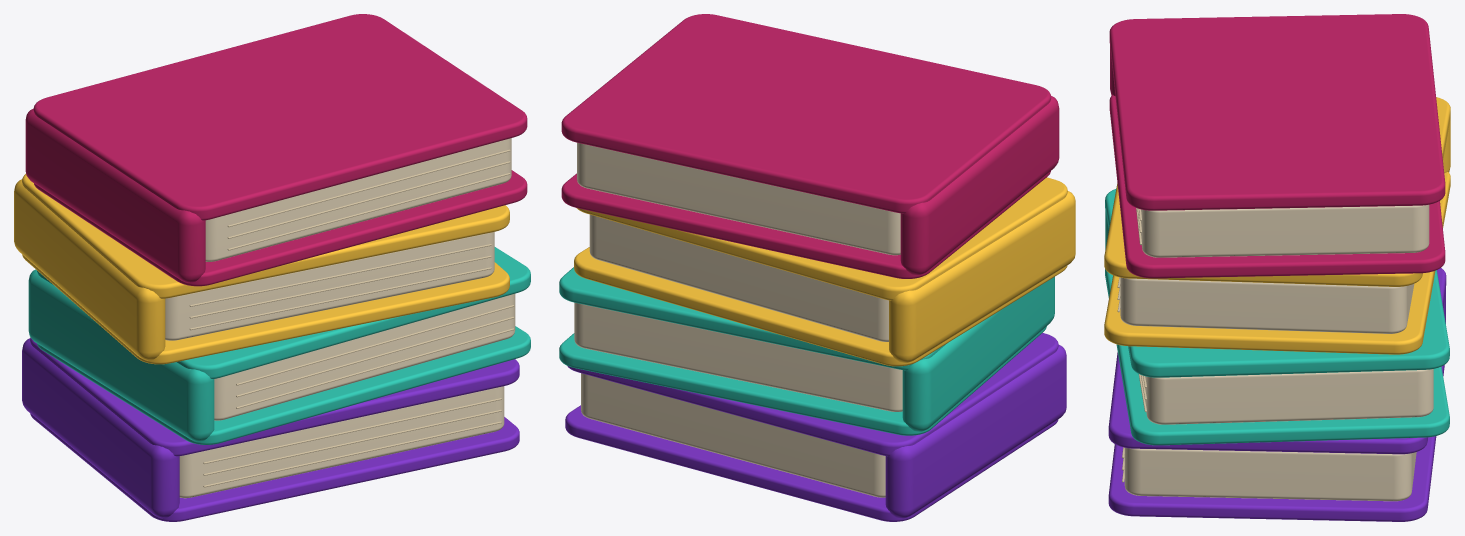
The model's file is book-stack.glb.
3 renders of one model, left to right at view 1: azimuth 30°, elevation 25°; view 2: azimuth 150°, elevation 25°; view 3: azimuth 270°, elevation 25°, orthographic. The views are drawn at different scales.
Visible parts, largest first — view 1: Stack 4 upper cover, Stack 3 page block, Stack 1 page block, Stack 4 rounded spine, Stack 4 page block, Stack 2 page block, Stack 2 rounded spine, Stack 1 rounded spine, Stack 3 rounded spine, Stack 3 lower cover, Stack 1 lower cover, Stack 3 upper cover (+16 smaller); view 2: Stack 4 upper cover, Stack 2 page block, Stack 4 page block, Stack 1 page block, Stack 3 page block, Stack 3 rounded spine, Stack 1 rounded spine, Stack 4 rounded spine, Stack 2 rounded spine, Stack 2 lower cover, Stack 4 lower cover, Stack 1 lower cover (+4 smaller); view 3: Stack 4 upper cover, Stack 3 page block, Stack 1 page block, Stack 4 page block, Stack 2 page block, Stack 4 lower cover, Stack 2 upper cover, Stack 2 lower cover, Stack 3 lower cover, Stack 1 lower cover, Stack 1 upper cover, Stack 3 upper cover.
Boxes of the visible parts, x1=… form: Stack 4 upper cover: x1=33, y1=14, x2=527, y2=220; Stack 3 page block: x1=165, y1=232, x2=494, y2=340; Stack 1 page block: x1=179, y1=386, x2=504, y2=498; Stack 4 rounded spine: x1=25, y1=108, x2=205, y2=282; Stack 4 page block: x1=205, y1=138, x2=511, y2=261; Stack 2 page block: x1=214, y1=293, x2=515, y2=420; Stack 2 rounded spine: x1=28, y1=269, x2=214, y2=441; Stack 1 rounded spine: x1=22, y1=338, x2=179, y2=518; Stack 3 rounded spine: x1=14, y1=179, x2=165, y2=360; Stack 3 lower cover: x1=22, y1=254, x2=509, y2=364; Stack 1 lower cover: x1=30, y1=413, x2=519, y2=521; Stack 3 upper cover: x1=22, y1=174, x2=509, y2=298; Stack 4 upper cover: x1=561, y1=14, x2=1051, y2=213; Stack 2 page block: x1=574, y1=302, x2=902, y2=411; Stack 4 page block: x1=577, y1=142, x2=900, y2=255; Stack 1 page block: x1=581, y1=373, x2=885, y2=497; Stack 3 page block: x1=589, y1=214, x2=888, y2=341; Stack 3 rounded spine: x1=889, y1=191, x2=1075, y2=363; Stack 1 rounded spine: x1=885, y1=345, x2=1066, y2=518; Stack 4 rounded spine: x1=900, y1=96, x2=1059, y2=275; Stack 2 rounded spine: x1=902, y1=277, x2=1054, y2=431; Stack 2 lower cover: x1=559, y1=326, x2=1046, y2=435; Stack 4 lower cover: x1=561, y1=171, x2=1050, y2=278; Stack 1 lower cover: x1=565, y1=405, x2=1058, y2=521; Stack 4 upper cover: x1=1109, y1=14, x2=1445, y2=210; Stack 3 page block: x1=1120, y1=277, x2=1414, y2=333; Stack 1 page block: x1=1124, y1=447, x2=1416, y2=501; Stack 4 page block: x1=1141, y1=204, x2=1429, y2=257; Stack 2 page block: x1=1145, y1=369, x2=1433, y2=424; Stack 4 lower cover: x1=1109, y1=95, x2=1445, y2=278; Stack 2 upper cover: x1=1105, y1=189, x2=1449, y2=377; Stack 2 lower cover: x1=1105, y1=269, x2=1449, y2=445; Stack 3 lower cover: x1=1104, y1=172, x2=1450, y2=354; Stack 1 lower cover: x1=1108, y1=365, x2=1444, y2=521; Stack 1 upper cover: x1=1108, y1=268, x2=1446, y2=454; Stack 3 upper cover: x1=1104, y1=97, x2=1450, y2=286.
Bounding box in the file's own units: 1.77 × 1.36 × 1.3.
